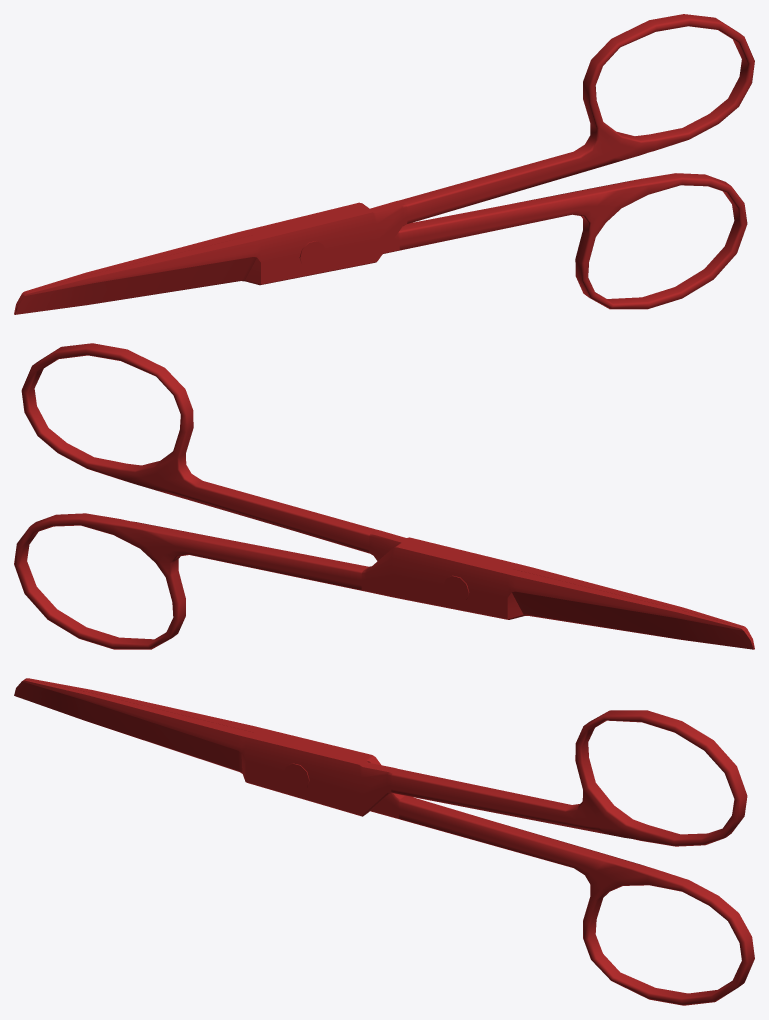
The model's file is Tools_Scissors_01.fbx.
The picture shows the model from 3 angles, top to bottom: view 1: azimuth 30°, elevation 25°; view 2: azimuth 150°, elevation 25°; view 3: azimuth 330°, elevation 25°; orthographic projection.
Parts seen in each view (by area): view 1: Tools_Scissors_01:Tools_TopScissor_01, Tools_Scissors_01:Tools_BottomScissor_01, Tools_Scissors_01:Tools_Screw_01; view 2: Tools_Scissors_01:Tools_BottomScissor_01, Tools_Scissors_01:Tools_TopScissor_01, Tools_Scissors_01:Tools_Screw_01; view 3: Tools_Scissors_01:Tools_TopScissor_01, Tools_Scissors_01:Tools_BottomScissor_01, Tools_Scissors_01:Tools_Screw_01.
Boxes of the visible parts, x1,y1,x2,y2 form: Tools_Scissors_01:Tools_TopScissor_01: [14, 14, 754, 314]; Tools_Scissors_01:Tools_BottomScissor_01: [14, 173, 747, 314]; Tools_Scissors_01:Tools_Screw_01: [299, 241, 325, 268]; Tools_Scissors_01:Tools_BottomScissor_01: [14, 513, 754, 649]; Tools_Scissors_01:Tools_TopScissor_01: [21, 343, 754, 649]; Tools_Scissors_01:Tools_Screw_01: [443, 575, 469, 603]; Tools_Scissors_01:Tools_TopScissor_01: [14, 679, 747, 846]; Tools_Scissors_01:Tools_BottomScissor_01: [24, 678, 754, 1005]; Tools_Scissors_01:Tools_Screw_01: [283, 763, 309, 790].
Bounding box in the file's own units: 16.31 × 6.17 × 0.6437.
